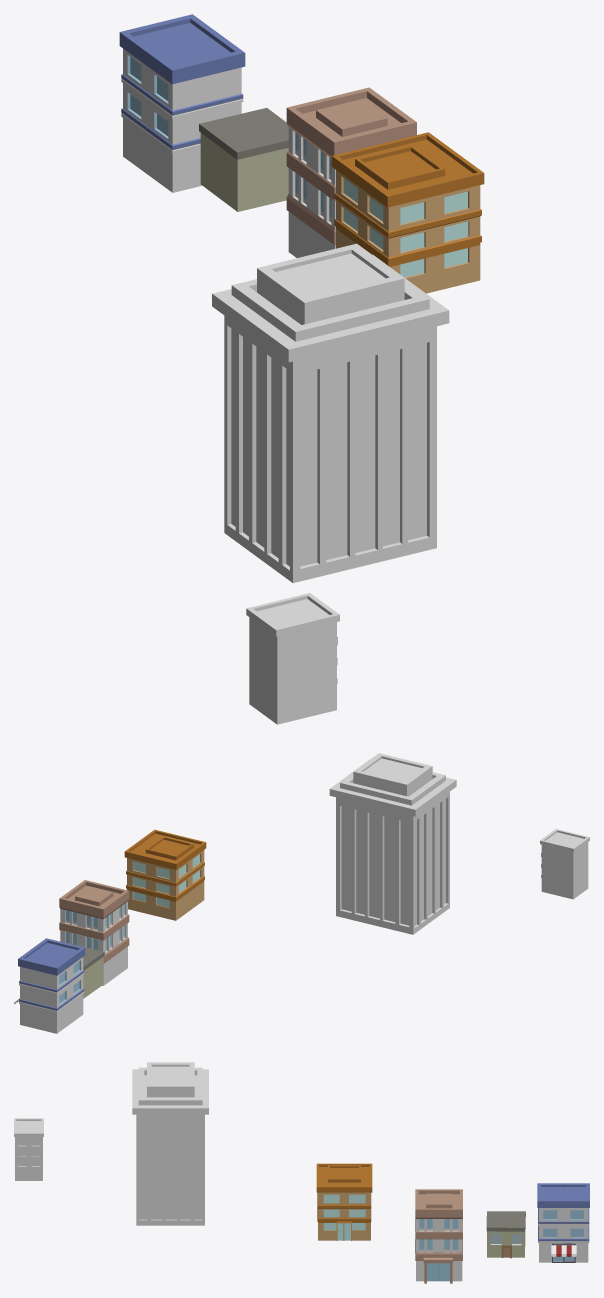
File: CasasMarko.fbx
3 renders of one model, top to bottom at view 1: azimuth 30°, elevation 25°; view 2: azimuth 150°, elevation 25°; view 3: azimuth 270°, elevation 25°, orthographic. The views are drawn at different scales.
Visible parts, largest first — view 1: Cube.004, Cube.003, Cube, Cube.007, Cube.005, Cube.006; view 2: Cube.004, Cube.003, Cube, Cube.007, Cube.005, Cube.006; view 3: Cube.004, Cube.007, Cube.003, Cube, Cube.006, Cube.005, Plane.002.
Part boxes in pixels (x1,y1,x2,y2): Cube.004: (212,243,449,583); Cube.003: (331,132,484,293); Cube: (119,14,245,192); Cube.007: (286,87,416,257); Cube.005: (246,593,339,724); Cube.006: (199,108,288,211); Cube.004: (329,753,456,934); Cube.003: (124,829,206,920); Cube: (18,938,85,1033); Cube.007: (59,880,129,985); Cube.005: (540,829,589,899); Cube.006: (68,943,104,998); Cube.004: (132,1062,208,1225); Cube.007: (415,1189,462,1283); Cube.003: (316,1163,372,1240); Cube: (537,1183,589,1262); Cube.006: (486,1211,525,1258); Cube.005: (14,1118,43,1180); Plane.002: (551,1245,576,1256).
Bounding box in the file's own units: 593 × 295 × 1076.
